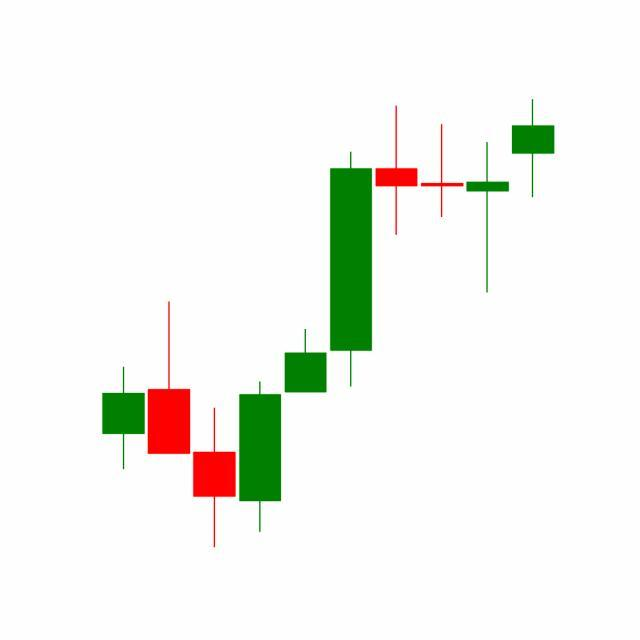Hikkake Pattern: (283, 104, 512, 397)
